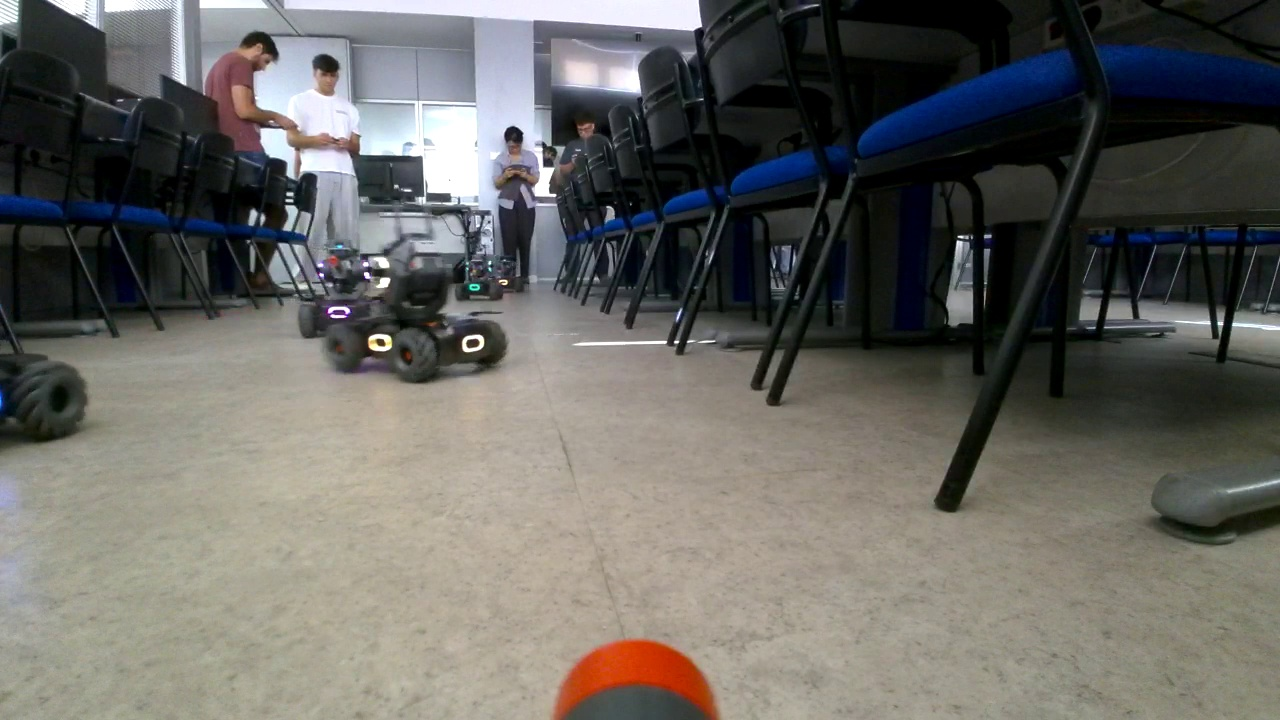robot: (324, 232, 508, 377), (296, 242, 387, 332), (456, 250, 503, 300), (490, 257, 527, 292)
